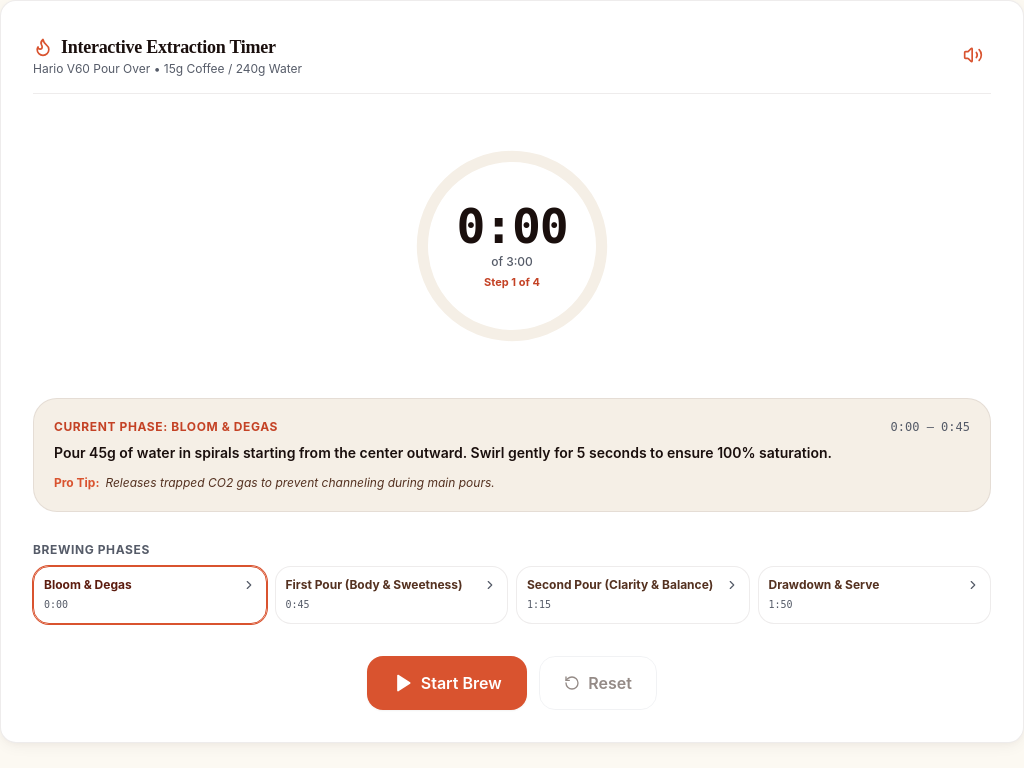
it: Milestone 3: Product Detail & Brew Guide Components Verification › BrewTimer Component › toggles audio sound button state
Click the button named "mute audio timer" at (973, 55), box [955, 37, 991, 73]
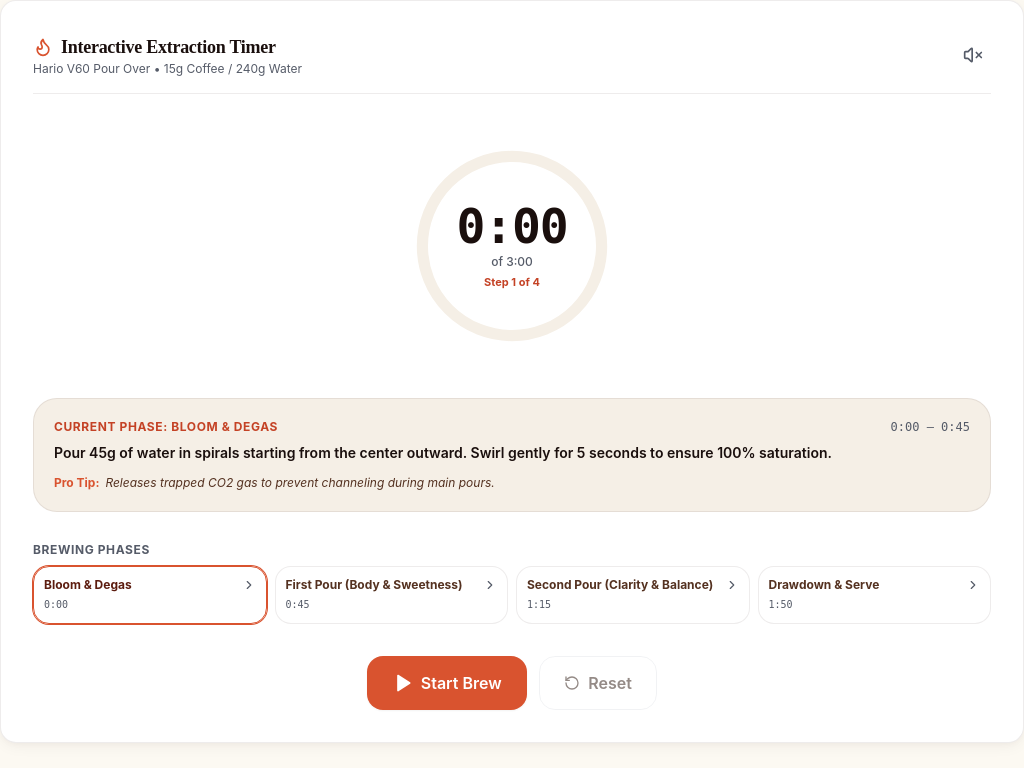
Now the button named "enable audio timer" is shown, box [955, 37, 991, 73]
